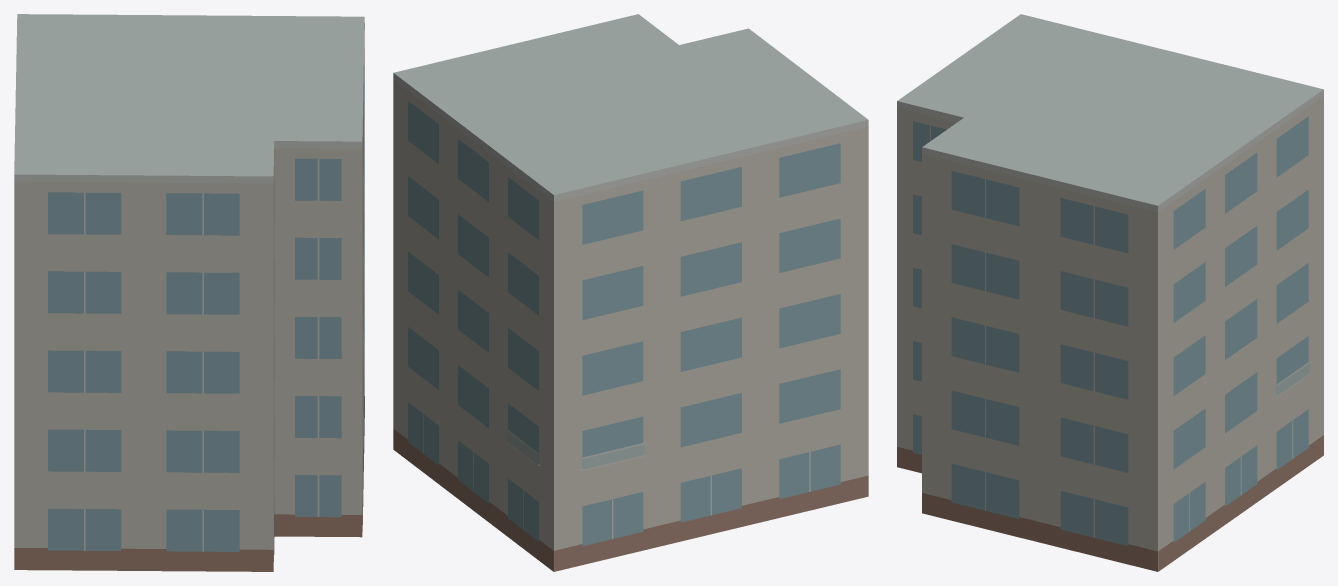
File: survey-upis-32838677.glb
3 renders of one model, left to right at view 1: azimuth 30°, elevation 25°; view 2: azimuth 150°, elevation 25°; view 3: azimuth 270°, elevation 25°, orthographic. The views are drawn at different scales.
Visible parts, largest first — view 1: survey-upis-32838677.tmp; view 2: survey-upis-32838677.tmp; view 3: survey-upis-32838677.tmp.
Part boxes in pixels (x1,y1,x2,y2): survey-upis-32838677.tmp: (14,14,364,571); survey-upis-32838677.tmp: (393,14,868,571); survey-upis-32838677.tmp: (897,14,1323,571).
Bounding box in the file's own units: 15.07 × 13.4 × 14.17.
